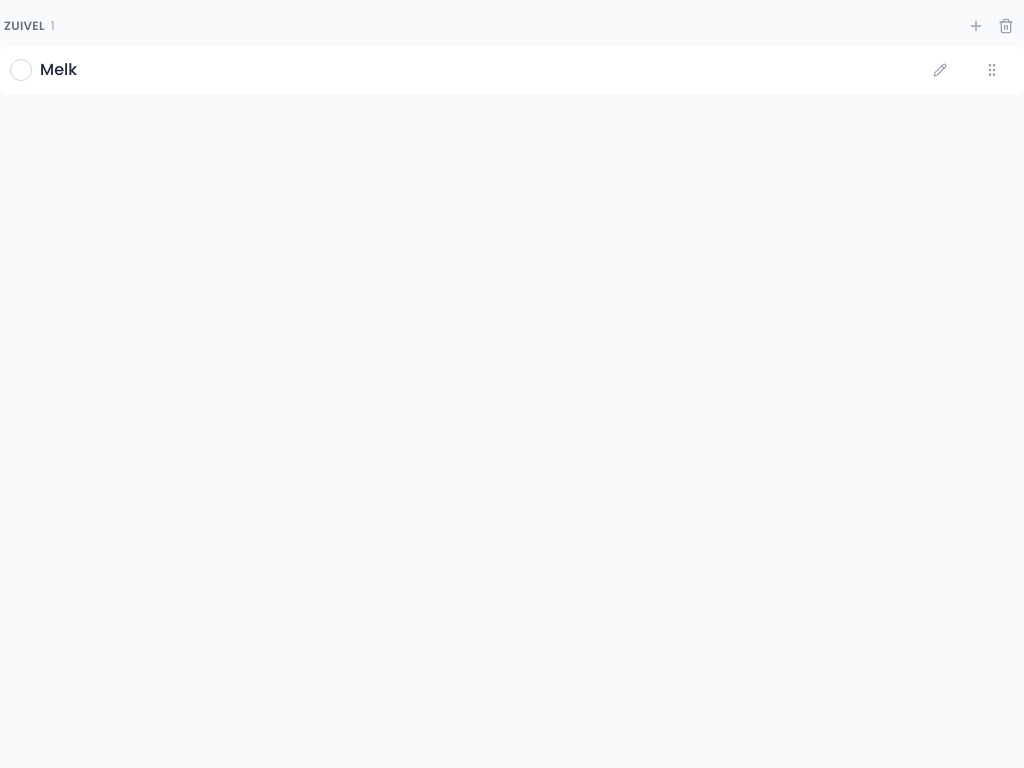
Test case: GroceryList › category headers › asks before deleting a category that still holds items
What coordinates should you click on to do the following:
click the button named "Categorie Zuivel verwijderen"
I would click on:
 (1006, 26)
Its box is [992,12,1020,40].
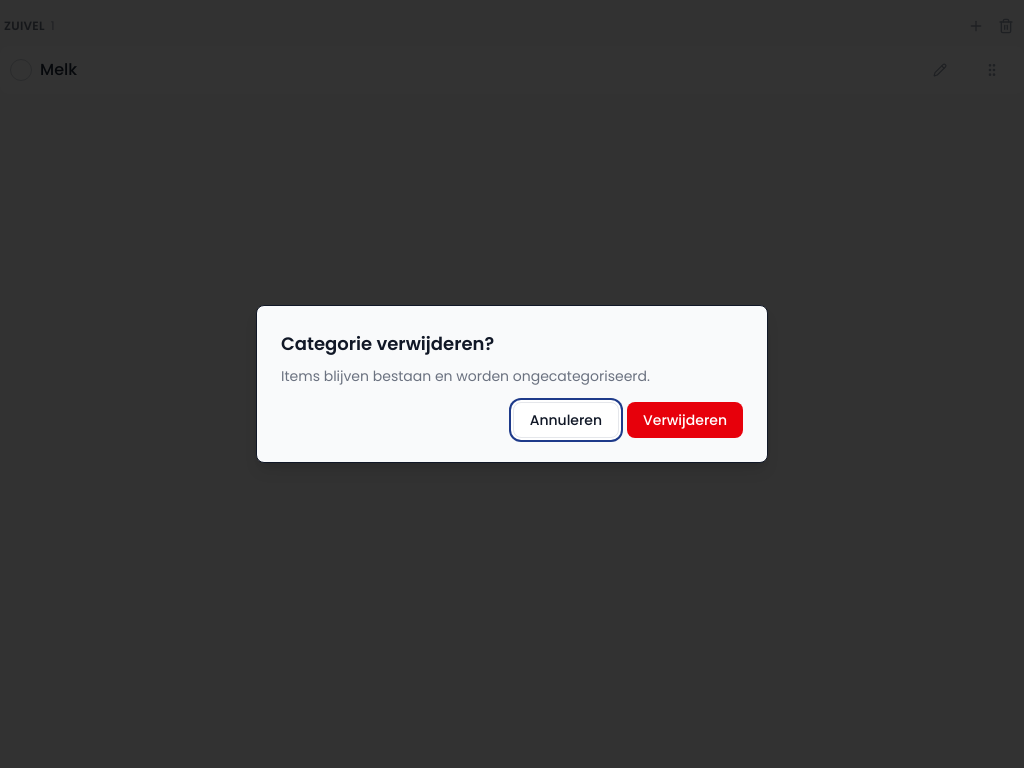
Check: the dialog is shown, box [256,305,768,463]
